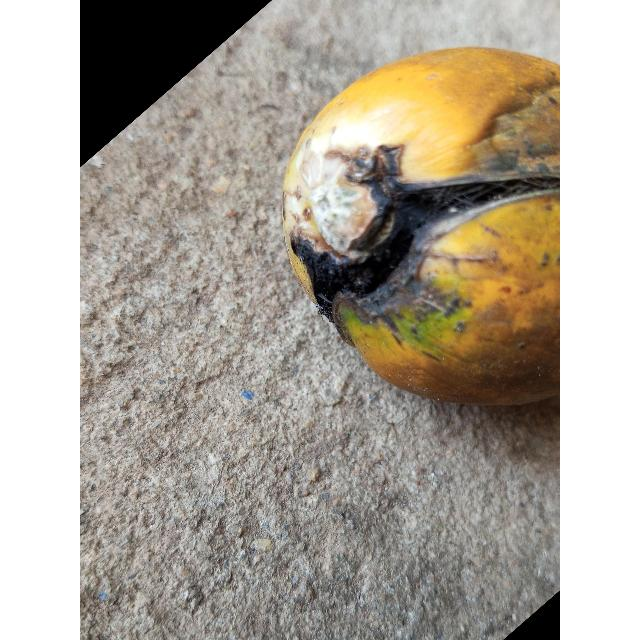damaged: (283, 46, 560, 408)
